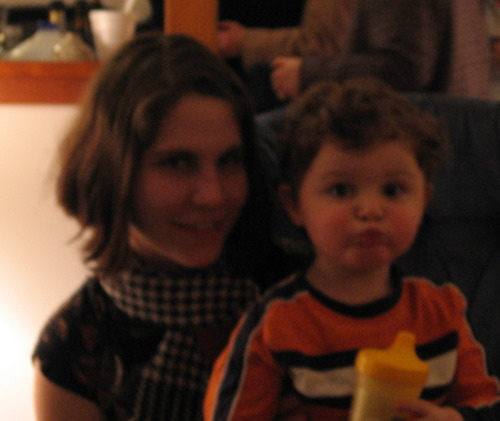without_mask: (110, 85, 249, 269), (285, 134, 434, 274)
